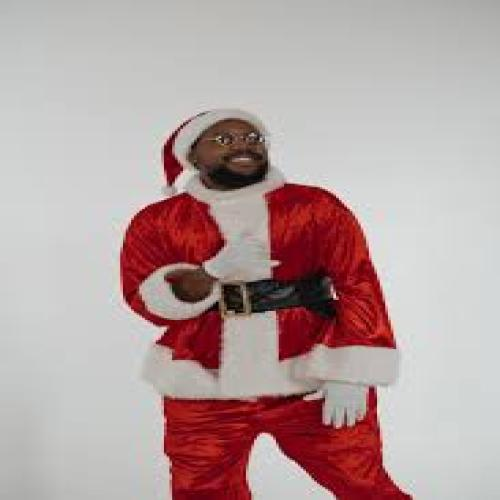Santa: (119, 108, 408, 498)
